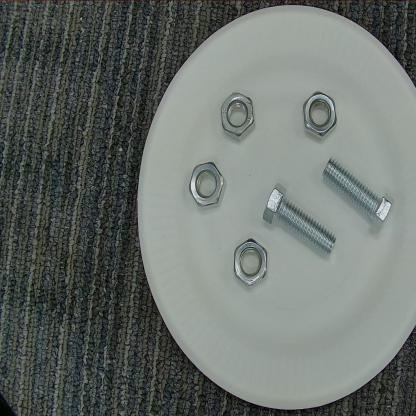FOD: (321, 151, 397, 238), (262, 179, 338, 262), (186, 154, 228, 216), (230, 233, 271, 296), (216, 86, 258, 147), (298, 88, 340, 143)
